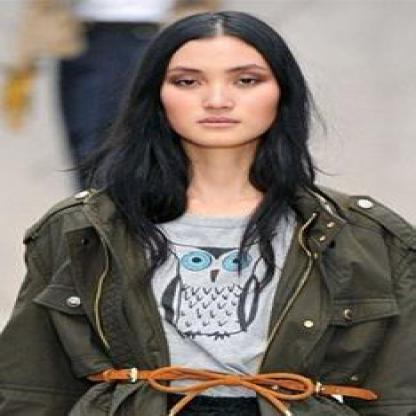long-hair: (71, 149, 343, 203)
